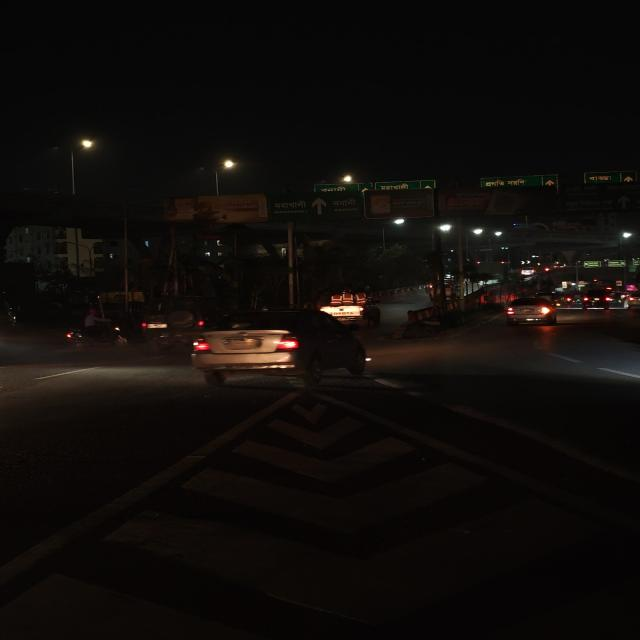car: (186, 308, 375, 382), (502, 294, 561, 328), (576, 289, 618, 312)
motorcycle: (62, 318, 130, 351)
pickup_van: (322, 290, 378, 320)
